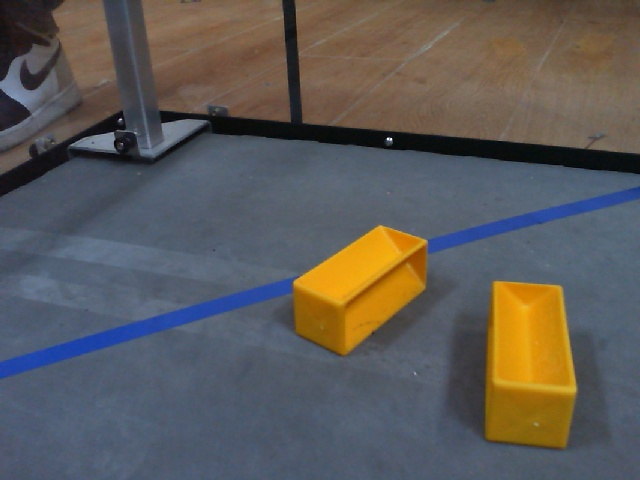YellowSample: (291, 222, 433, 367), (479, 276, 579, 456)
